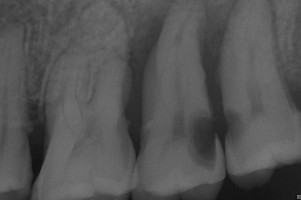Endo-Periodontal Lesion: (124, 12, 167, 131), (203, 18, 228, 108)
